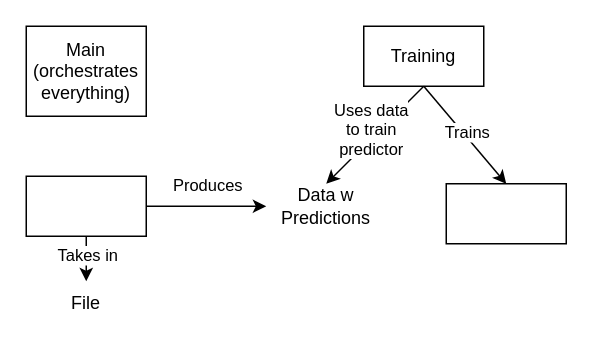
The diagram is 593 pixels wide and 353 high, and some of its shapes have lost their labels. Here are the shapes that lost their labels. From the top down, the centre of each, then its label:
At (85,205): "Parser".
At (505,213): "Predictor".
